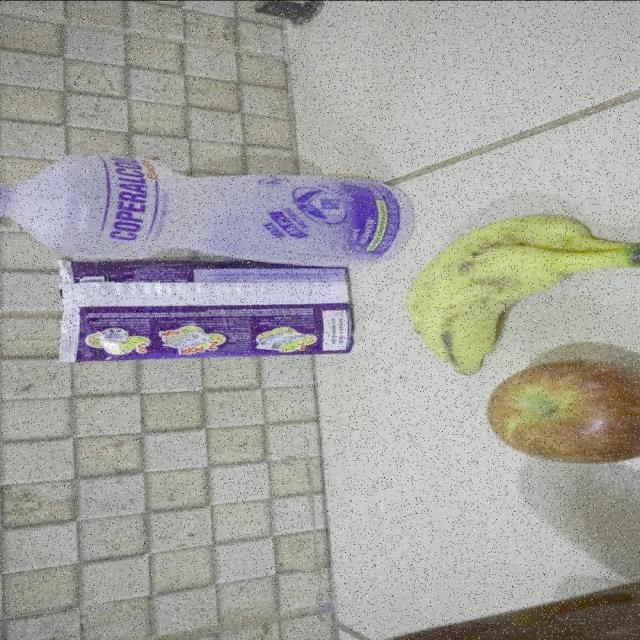AlcoholBottle: (0, 153, 418, 267)
Apple: (486, 357, 640, 463)
Banana: (405, 212, 640, 374)
Ketchup: (349, 579, 640, 640)
Popcorn: (56, 257, 355, 364)
